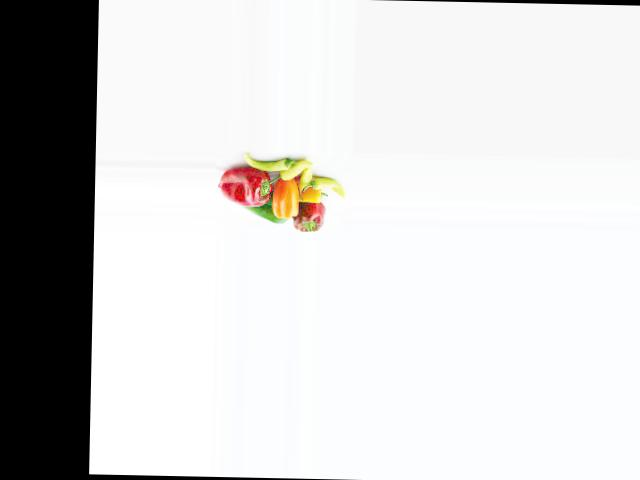bell_pepper: (240, 153, 299, 171)
